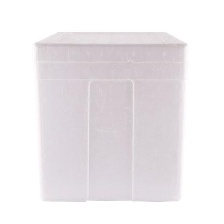foam_box: (30, 24, 194, 206)
